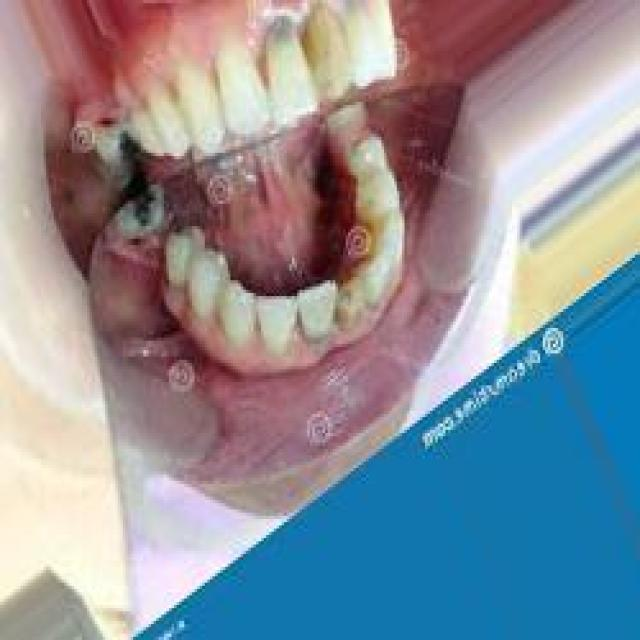caries: (120, 180, 174, 239), (106, 121, 154, 179), (334, 274, 366, 332)
